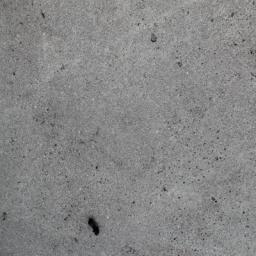FOD: (87, 215, 103, 239)
